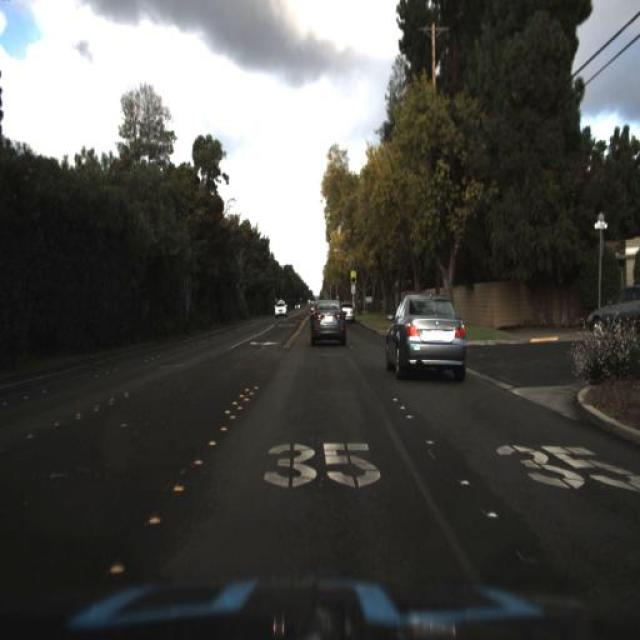car: (383, 290, 471, 386), (304, 294, 354, 354), (587, 284, 639, 334), (338, 296, 357, 326), (270, 294, 290, 320)
